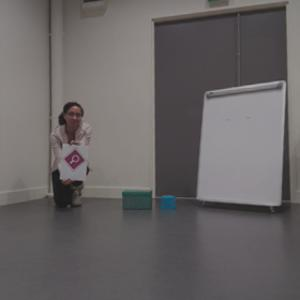search: (65, 149, 85, 169)
